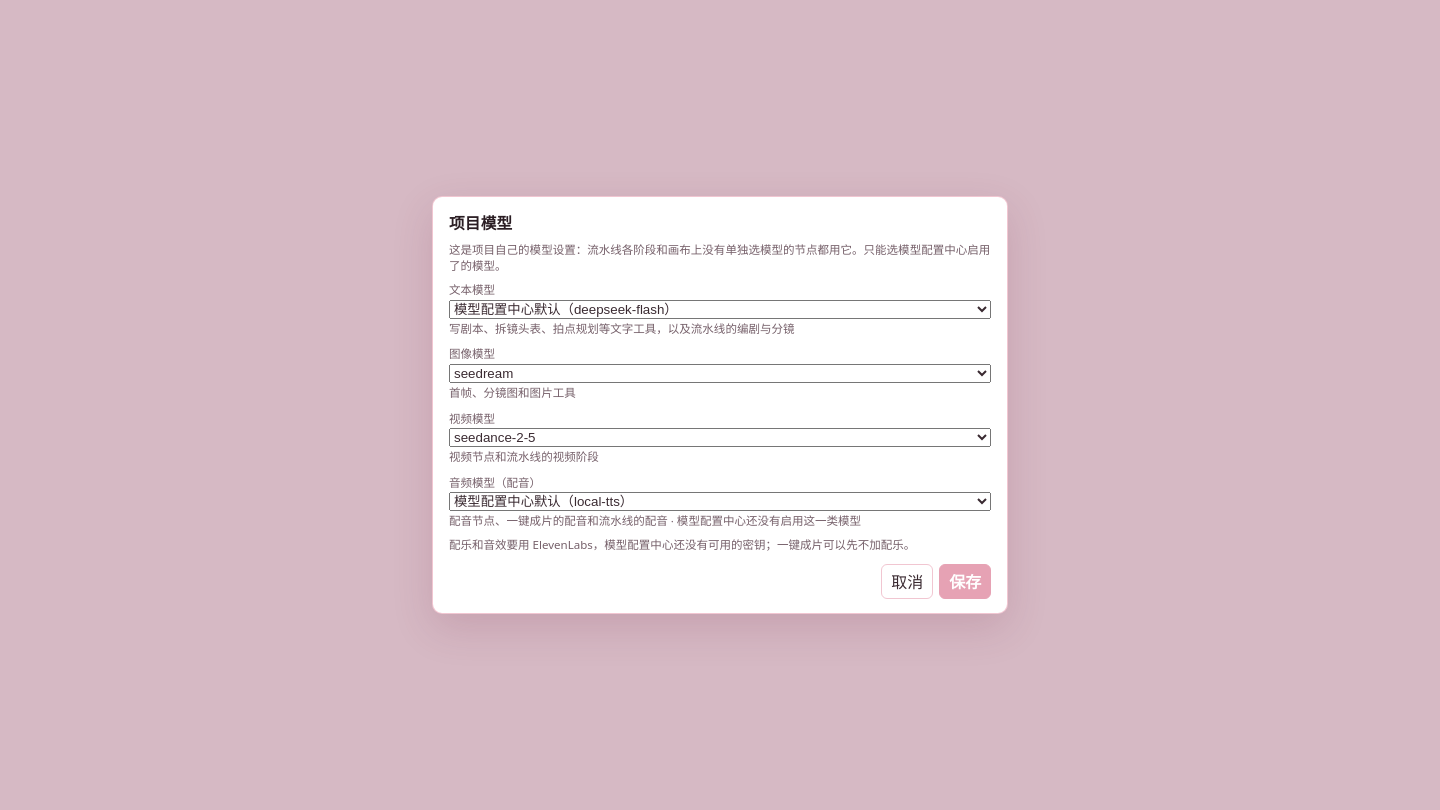
the project models from the canvas › says why a choice was refused and keeps the dialog open
Step 1. Select "doubao-seedream-5-0-pro" in the dropdown labelled "图像模型" → [720, 373], box top-left (449, 364), bottom-right (991, 383)
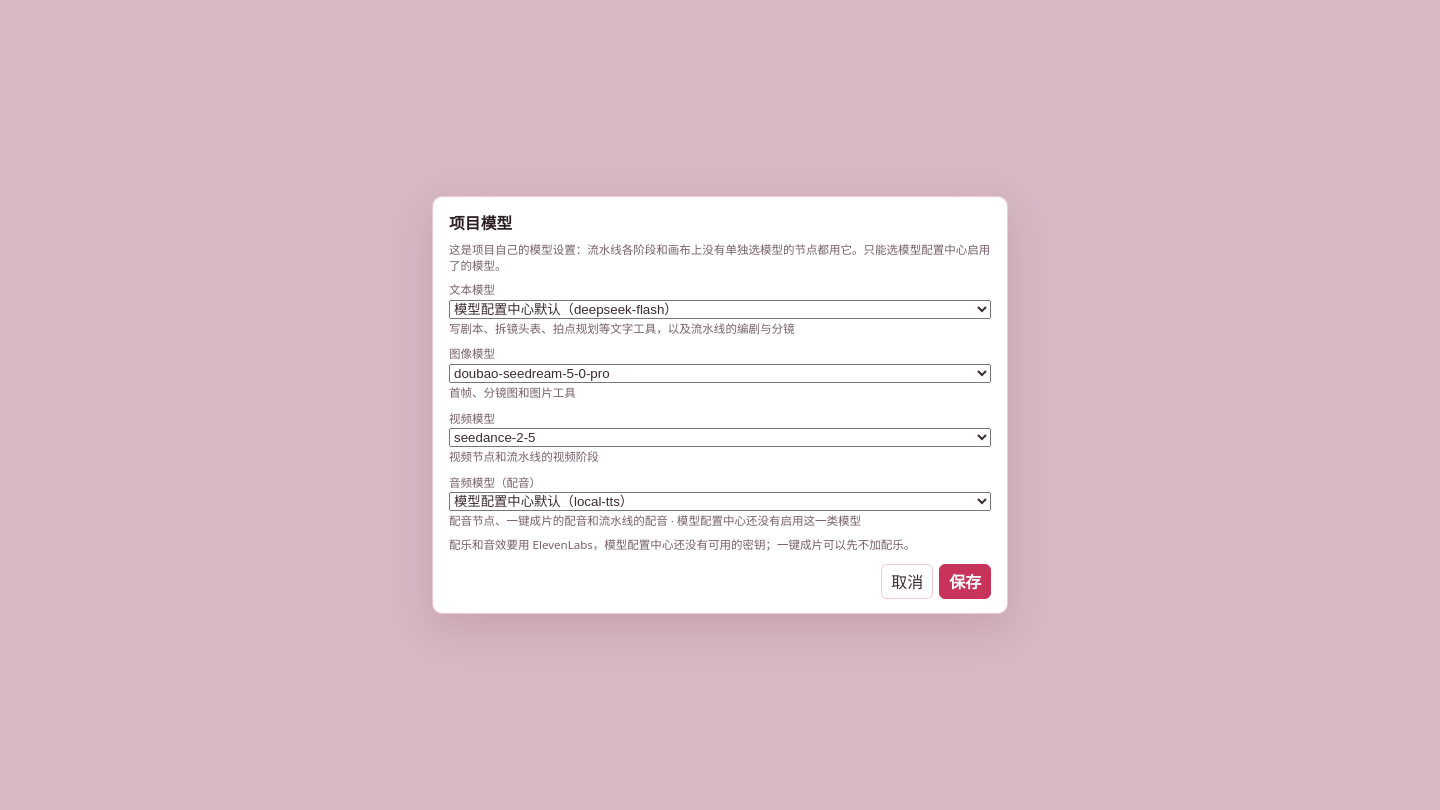
Step 2. Click the button "保存" → [965, 581], box top-left (939, 564), bottom-right (991, 599)
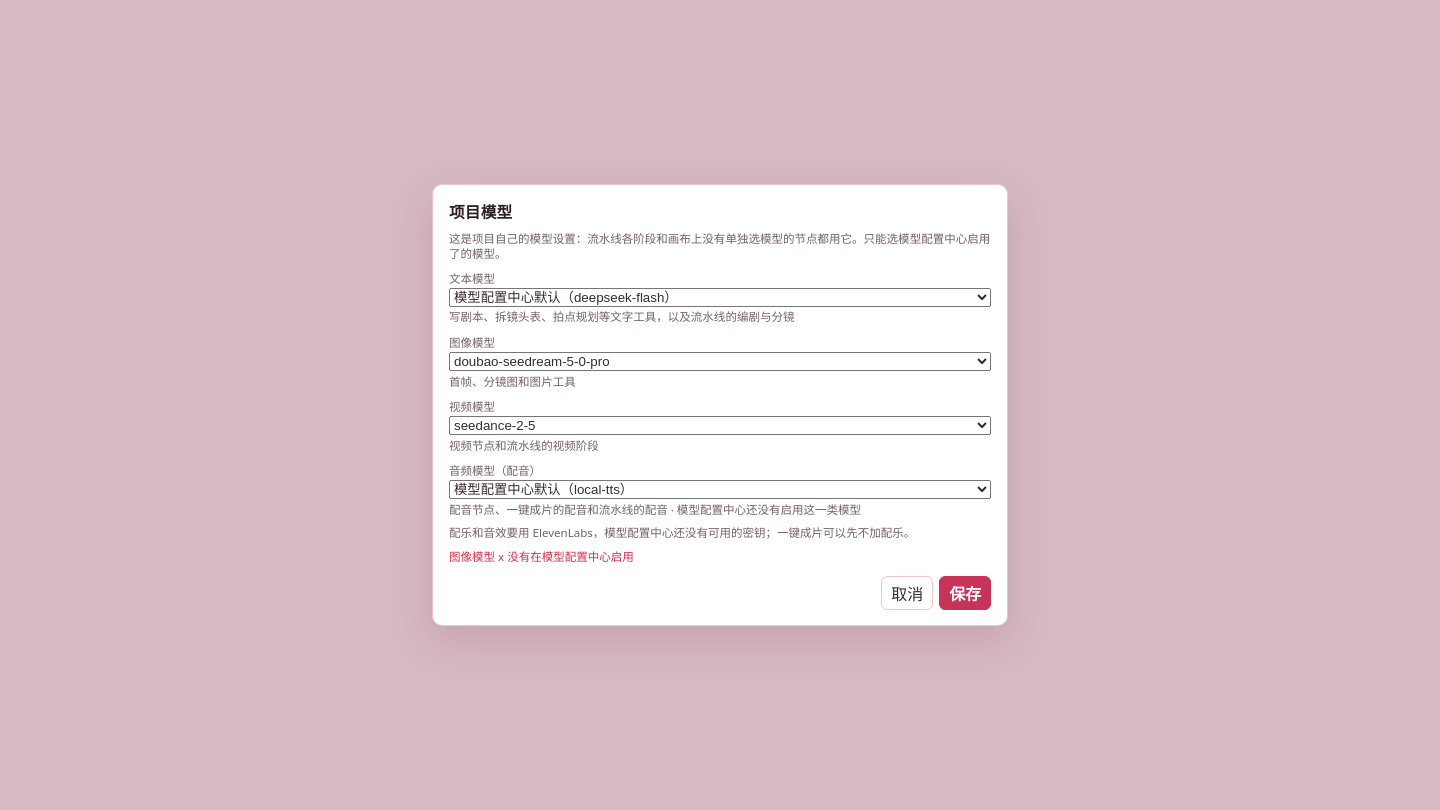
Expected: the text "图像模型 x 没有在模型配置中心启用" is shown, top-left (449, 549), bottom-right (634, 564)
